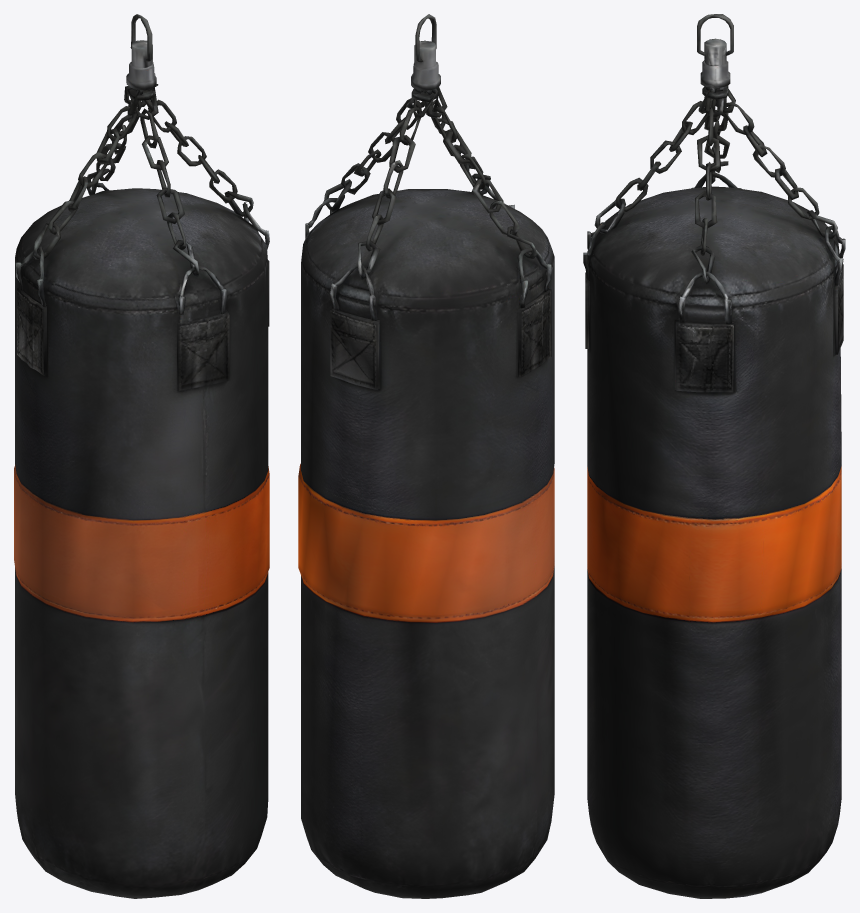
The model's file is bag.glb.
3 views of the same model, side by side, from view 1: azimuth 30°, elevation 25°; view 2: azimuth 150°, elevation 25°; view 3: azimuth 270°, elevation 25° (orthographic).
Visible parts, largest first — view 1: tripo_node_838fcda5-a3c2-49ec-87e8-13cb9084ef3c; view 2: tripo_node_838fcda5-a3c2-49ec-87e8-13cb9084ef3c; view 3: tripo_node_838fcda5-a3c2-49ec-87e8-13cb9084ef3c.
Boxes of the visible parts, left/top/right/bottom form: tripo_node_838fcda5-a3c2-49ec-87e8-13cb9084ef3c: left=14, top=14, right=269, bottom=898; tripo_node_838fcda5-a3c2-49ec-87e8-13cb9084ef3c: left=298, top=14, right=554, bottom=898; tripo_node_838fcda5-a3c2-49ec-87e8-13cb9084ef3c: left=583, top=14, right=845, bottom=898.
Bounding box in the file's own units: 0.3358 × 1.2 × 0.3311.
1 material, 1 textured.
